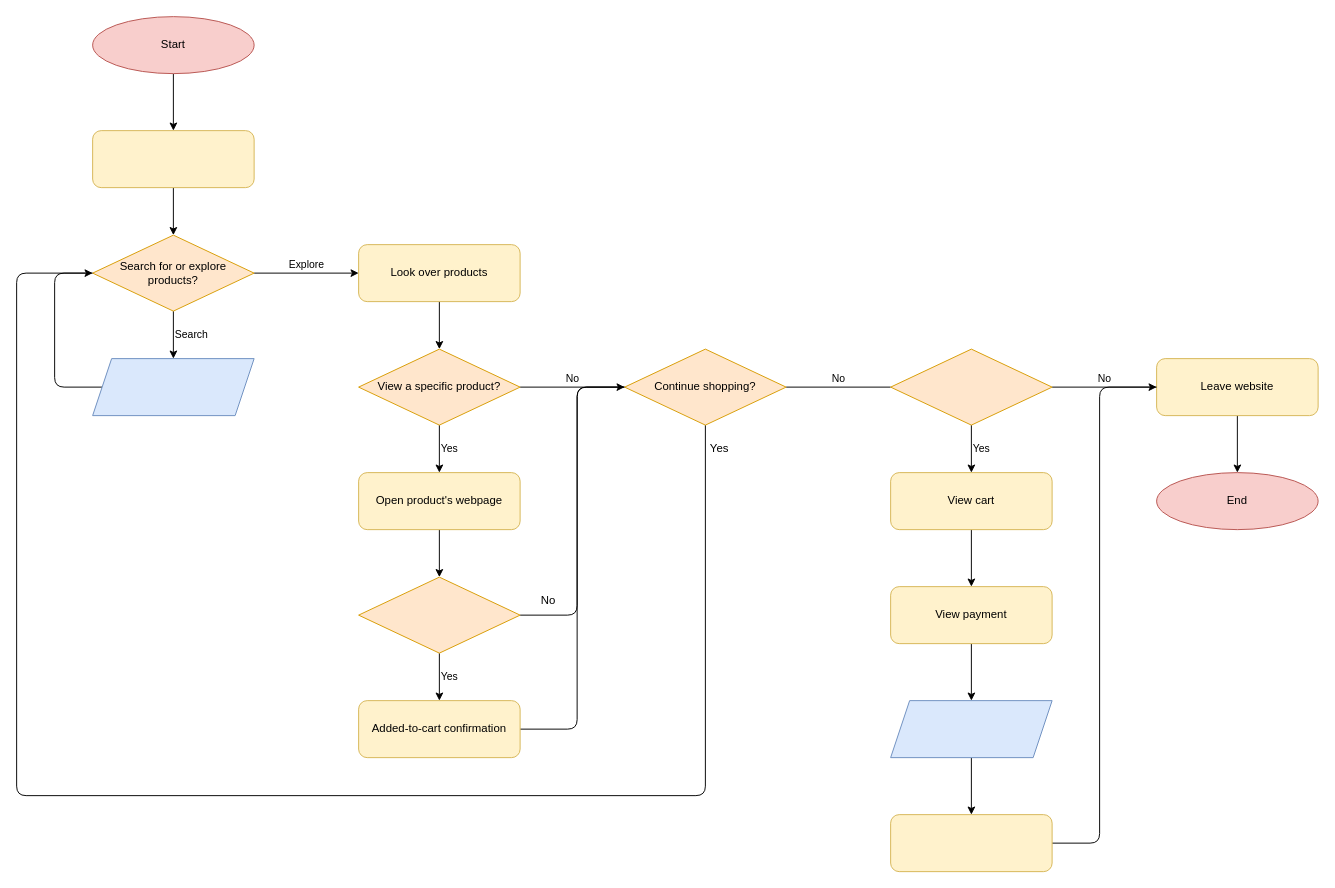
Some shapes in this 1335 by 888 pixel diagram are drawn without their labels. The shapes that lost their labels are listed below. From the top down, each one's box as (x1, y1, x2, y2) in pixels, then its label:
(92, 130, 254, 188): Enter website
(92, 358, 254, 416): Input search term
(890, 348, 1052, 425): Check out?
(358, 576, 520, 653): Add product to cart?
(890, 700, 1052, 758): Input payment info
(890, 814, 1052, 872): Order confirmation screen and email
